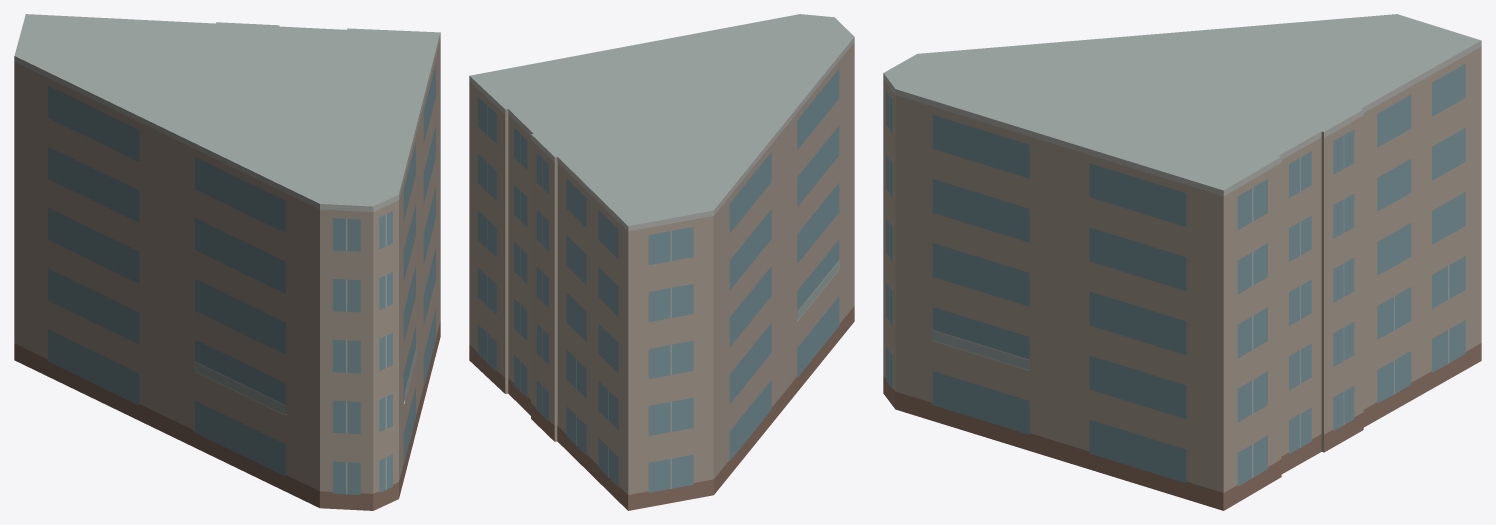
Rendered from survey-upis-32696588.glb.
3 views of the same model, side by side, from view 1: azimuth 30°, elevation 25°; view 2: azimuth 150°, elevation 25°; view 3: azimuth 270°, elevation 25° (orthographic). The views are drawn at different scales.
Visible parts, largest first — view 1: survey-upis-32696588.tmp; view 2: survey-upis-32696588.tmp; view 3: survey-upis-32696588.tmp.
Boxes of the visible parts, <box> form: survey-upis-32696588.tmp: <box>14,14,440,510</box>; survey-upis-32696588.tmp: <box>469,14,854,510</box>; survey-upis-32696588.tmp: <box>883,14,1481,510</box>.
Bounding box in the file's own units: 15.49 × 13.1 × 22.18.
